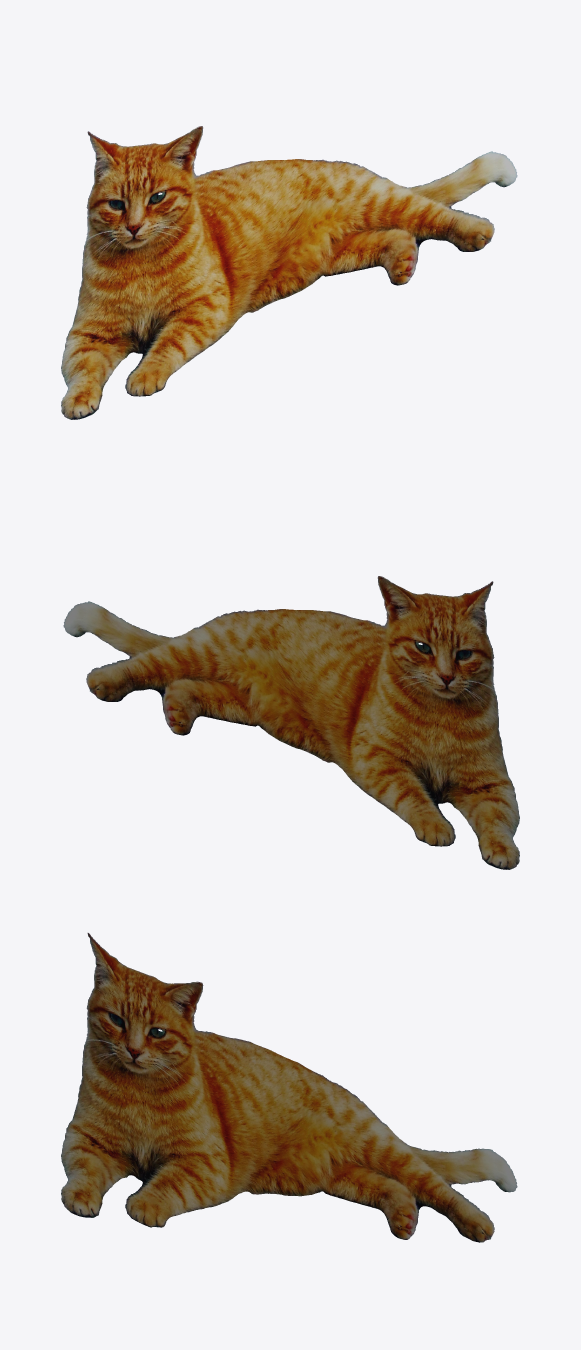
The model's file is Cat.fbx.
3 renders of one model, top to bottom at view 1: azimuth 30°, elevation 25°; view 2: azimuth 150°, elevation 25°; view 3: azimuth 330°, elevation 25°, orthographic.
Parts seen in each view (by area): view 1: ginger-cat-1451230099F1H; view 2: ginger-cat-1451230099F1H; view 3: ginger-cat-1451230099F1H.
Boxes of the visible parts, x1,y1,x2,y2 form: ginger-cat-1451230099F1H: [61, 126, 517, 419]; ginger-cat-1451230099F1H: [63, 576, 519, 869]; ginger-cat-1451230099F1H: [61, 933, 517, 1242].
Bounding box in the file's own units: 202 × 100 × 7.02e-05.
Materials: 1 (1 with a texture image).
